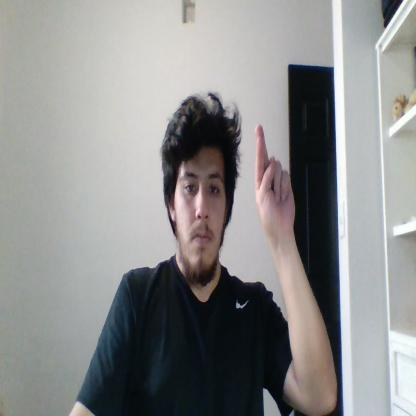R: (255, 122, 296, 238)
